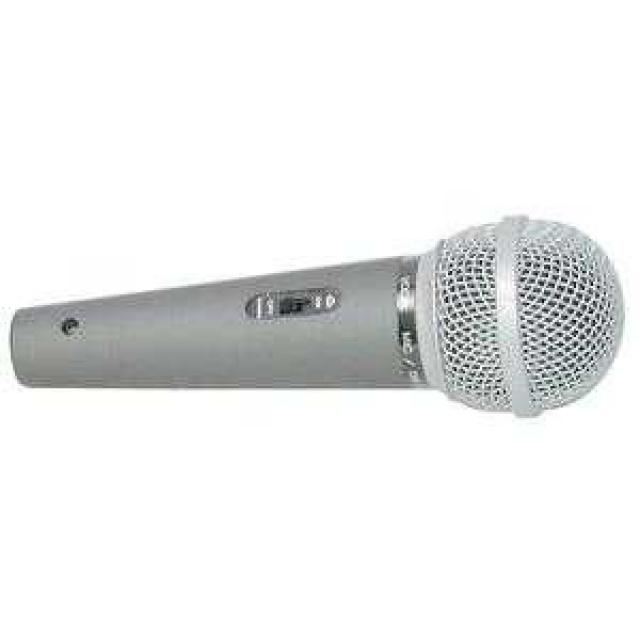microphone: (11, 229, 622, 426)
